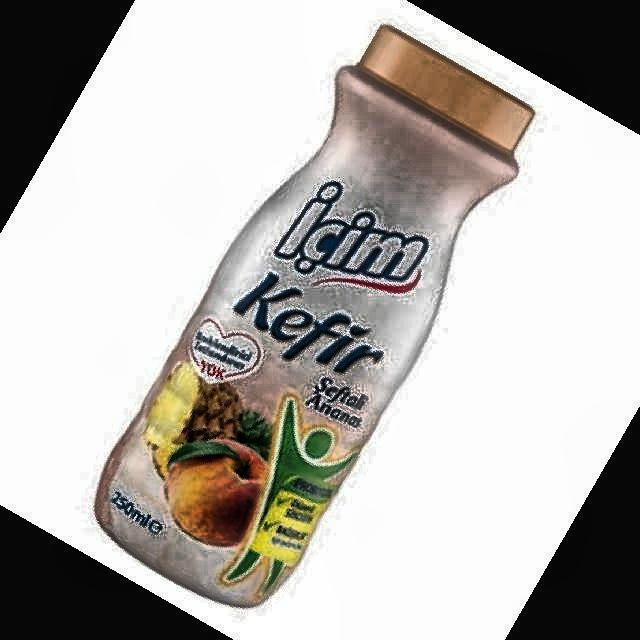plastic: (95, 26, 534, 606)
